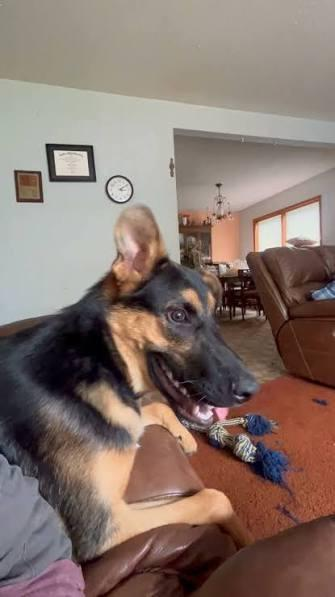adult_dog: (0, 203, 262, 568)
